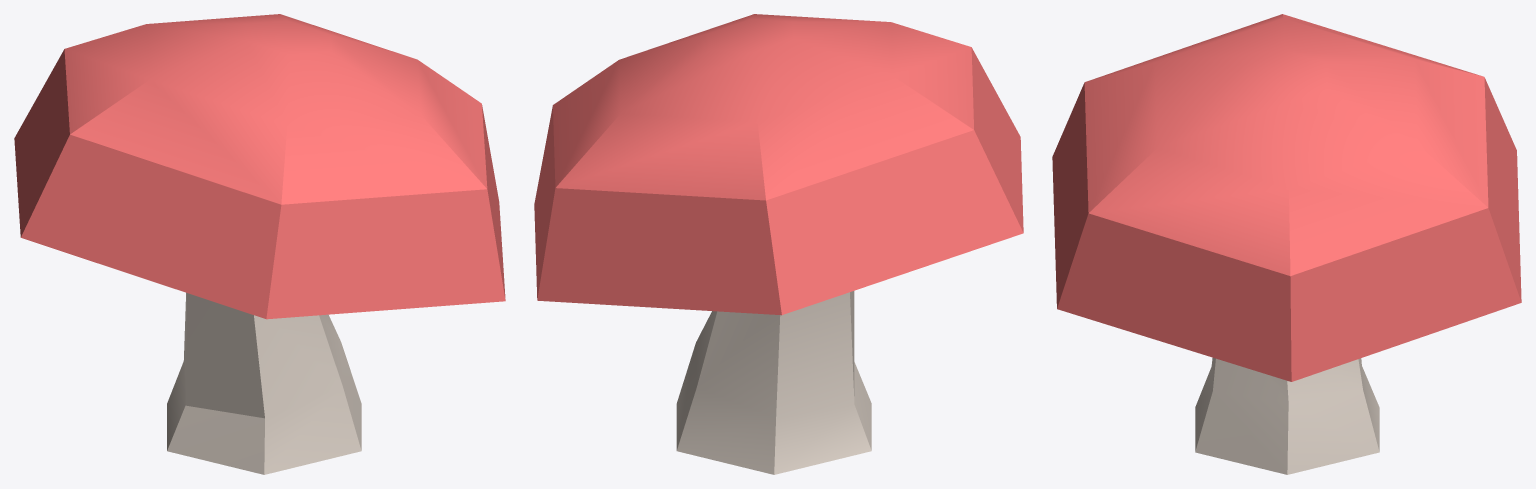
The model's file is Mushroom_Giant.fbx.
3 renders of one model, left to right at view 1: azimuth 30°, elevation 25°; view 2: azimuth 150°, elevation 25°; view 3: azimuth 270°, elevation 25°, orthographic. The views are drawn at different scales.
Parts seen in each view (by area): view 1: Mushroom_Giant; view 2: Mushroom_Giant; view 3: Mushroom_Giant.
Part boxes in pixels (x1,y1,x2,y2): Mushroom_Giant: (14,14,505,474); Mushroom_Giant: (534,14,1023,474); Mushroom_Giant: (1052,14,1521,474).
Size of the model in its own units: 3.57 by 2.76 by 3.17.
